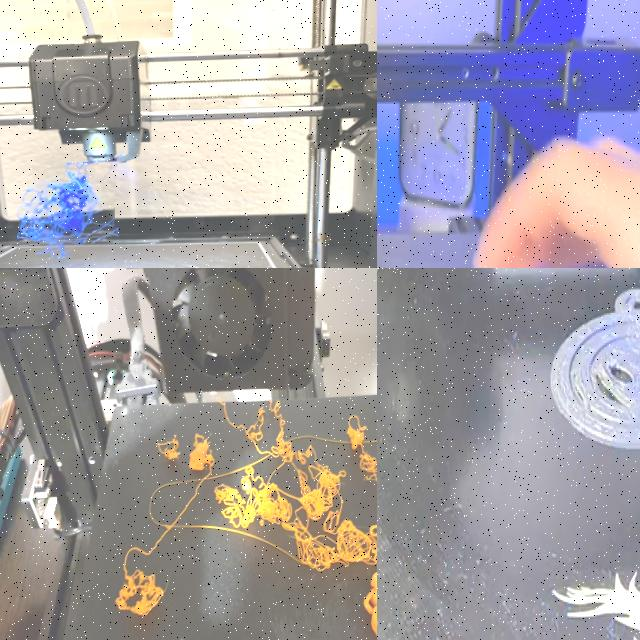spaghetti: (218, 397, 377, 619), (16, 161, 116, 243), (113, 575, 176, 619), (152, 428, 186, 466), (192, 427, 216, 475)
